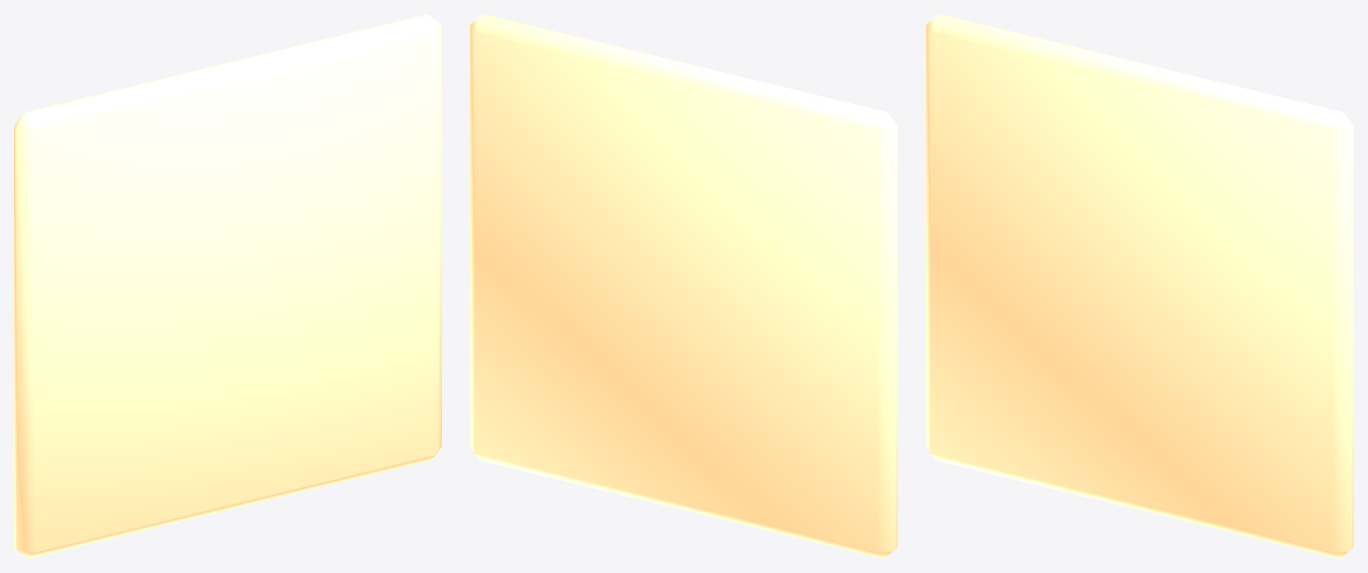
File: Glass.glb
3 views of the same model, side by side, from view 1: azimuth 30°, elevation 25°; view 2: azimuth 150°, elevation 25°; view 3: azimuth 330°, elevation 25° (orthographic).
Parts seen in each view (by area): view 1: Glass; view 2: Glass; view 3: Glass.
Boxes of the visible parts, x1=… form: Glass: x1=14, y1=14, x2=441, y2=558; Glass: x1=470, y1=14, x2=897, y2=558; Glass: x1=926, y1=14, x2=1353, y2=558.
Size of the model in its own units: 0.38 by 0.38 by 0.025.
